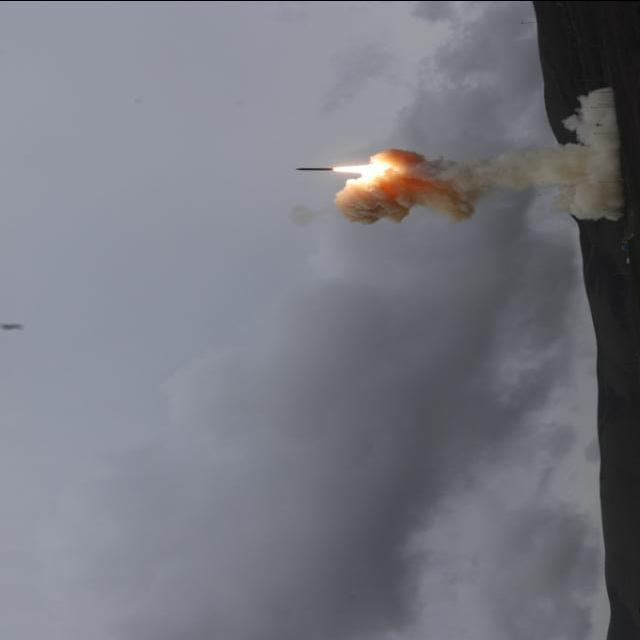Missile: (291, 166, 337, 172)
